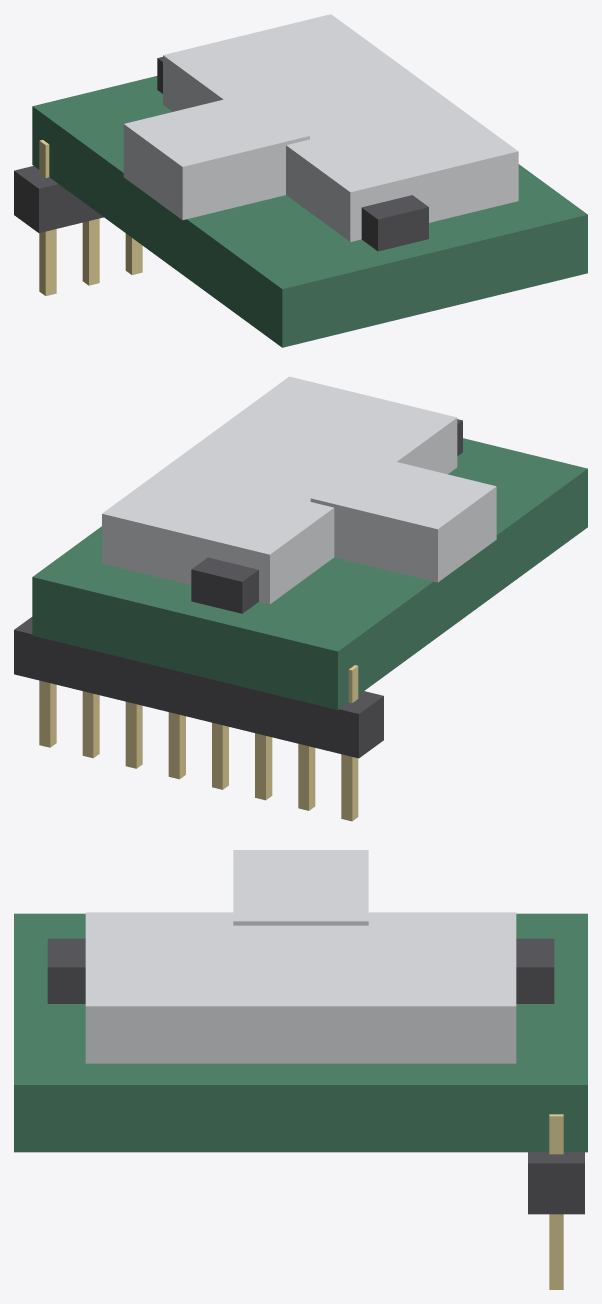
Rendered from esp32-wroom-32e.glb.
The picture shows the model from 3 angles, top to bottom: view 1: azimuth 30°, elevation 25°; view 2: azimuth 150°, elevation 25°; view 3: azimuth 270°, elevation 25°; orthographic projection. The views are drawn at different scales.
Parts seen in each view (by area): view 1: esp32-wroom-32e-metal, esp32-wroom-32e-pcb, esp32-wroom-32e-plastic, esp32-wroom-32e-pins; view 2: esp32-wroom-32e-metal, esp32-wroom-32e-pcb, esp32-wroom-32e-plastic, esp32-wroom-32e-pins; view 3: esp32-wroom-32e-metal, esp32-wroom-32e-pcb, esp32-wroom-32e-plastic, esp32-wroom-32e-pins.
Part boxes in pixels (box(x1,y1,x2,y2)): esp32-wroom-32e-metal: box(123, 14, 518, 241); esp32-wroom-32e-pcb: box(32, 76, 587, 347); esp32-wroom-32e-plastic: box(14, 57, 428, 251); esp32-wroom-32e-pins: box(39, 140, 142, 295); esp32-wroom-32e-metal: box(102, 376, 496, 604); esp32-wroom-32e-pcb: box(32, 438, 587, 709); esp32-wroom-32e-plastic: box(14, 419, 462, 758); esp32-wroom-32e-pins: box(39, 665, 358, 821); esp32-wroom-32e-metal: box(85, 850, 516, 1063); esp32-wroom-32e-pcb: box(14, 913, 587, 1152); esp32-wroom-32e-plastic: box(47, 938, 584, 1214); esp32-wroom-32e-pins: box(549, 1114, 563, 1289).
Bounding box in the file's own units: 0.0203 × 0.0129 × 0.0255.
